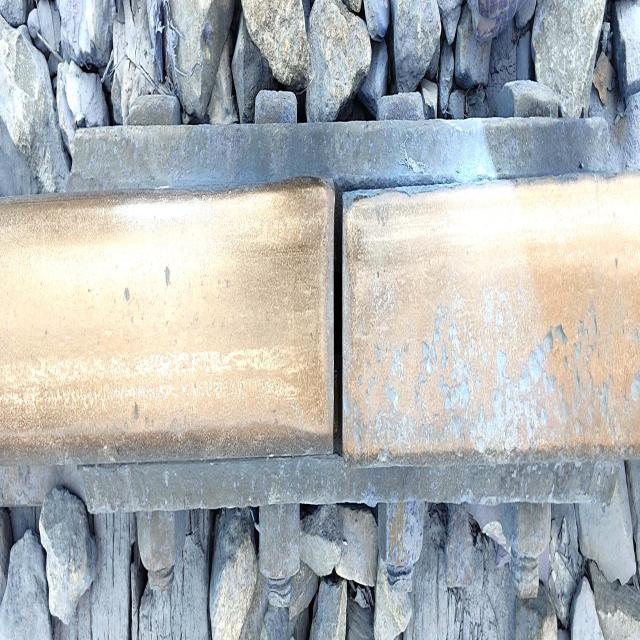Good Joint: (0, 82, 640, 638)
